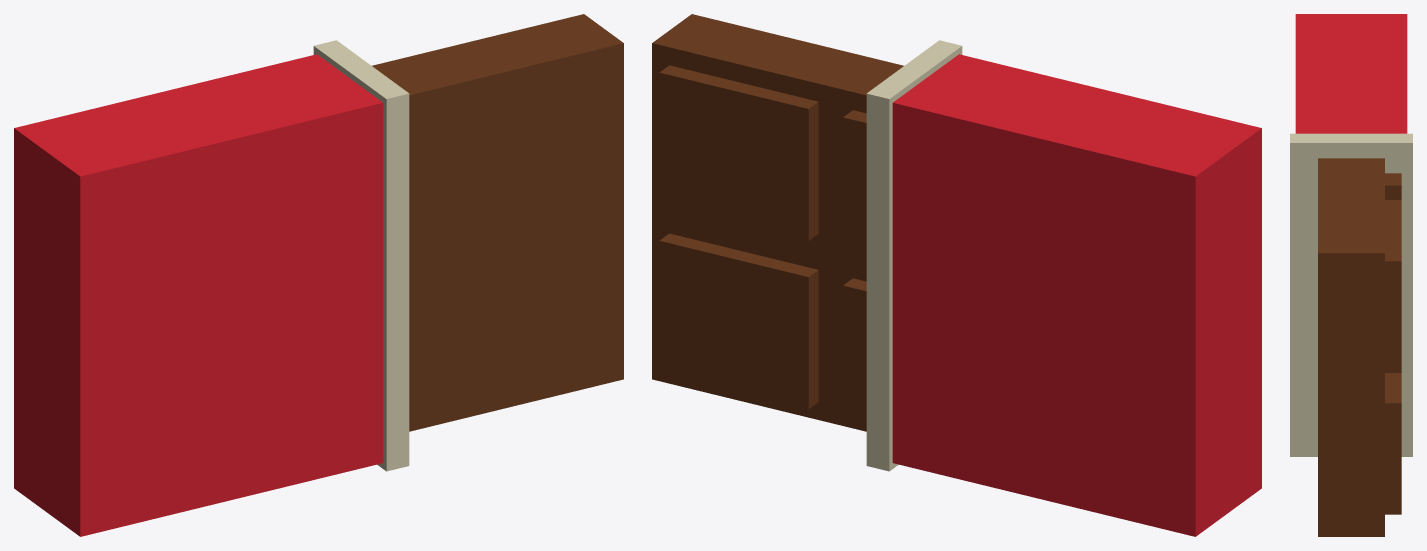
Rendered from Chocolate.fbx.
3 renders of one model, left to right at view 1: azimuth 30°, elevation 25°; view 2: azimuth 150°, elevation 25°; view 3: azimuth 270°, elevation 25°, orthographic. The views are drawn at different scales.
Parts seen in each view (by area): view 1: Chocolate; view 2: Chocolate; view 3: Chocolate.
Boxes of the visible parts, <box> form: Chocolate: <box>14,14,623,536</box>; Chocolate: <box>652,14,1261,536</box>; Chocolate: <box>1290,14,1412,536</box>.
Size of the model in its own units: 0.097 by 0.062 by 0.022.
